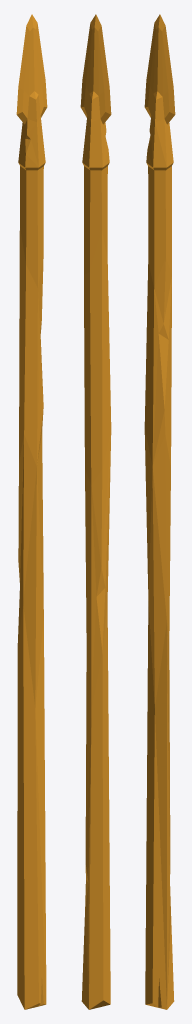
Rendered from SM_Javelin_Fantasy.fbx.
3 views of the same model, side by side, from view 1: azimuth 30°, elevation 25°; view 2: azimuth 150°, elevation 25°; view 3: azimuth 330°, elevation 25° (orthographic).
Visible parts, largest first — view 1: javelin-fantasy; view 2: javelin-fantasy; view 3: javelin-fantasy.
Boxes of the visible parts, box(x1,y1,x2,y2) form: javelin-fantasy: box(16, 14, 47, 1009); javelin-fantasy: box(80, 14, 111, 1009); javelin-fantasy: box(144, 14, 175, 1009).
Size of the model in its own units: 0.0445 by 1.38 by 0.0364.
